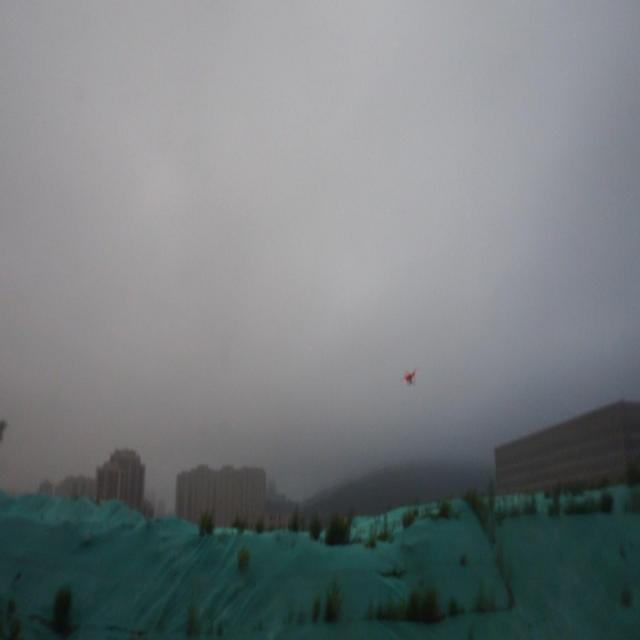UAV: (403, 369, 418, 385)
